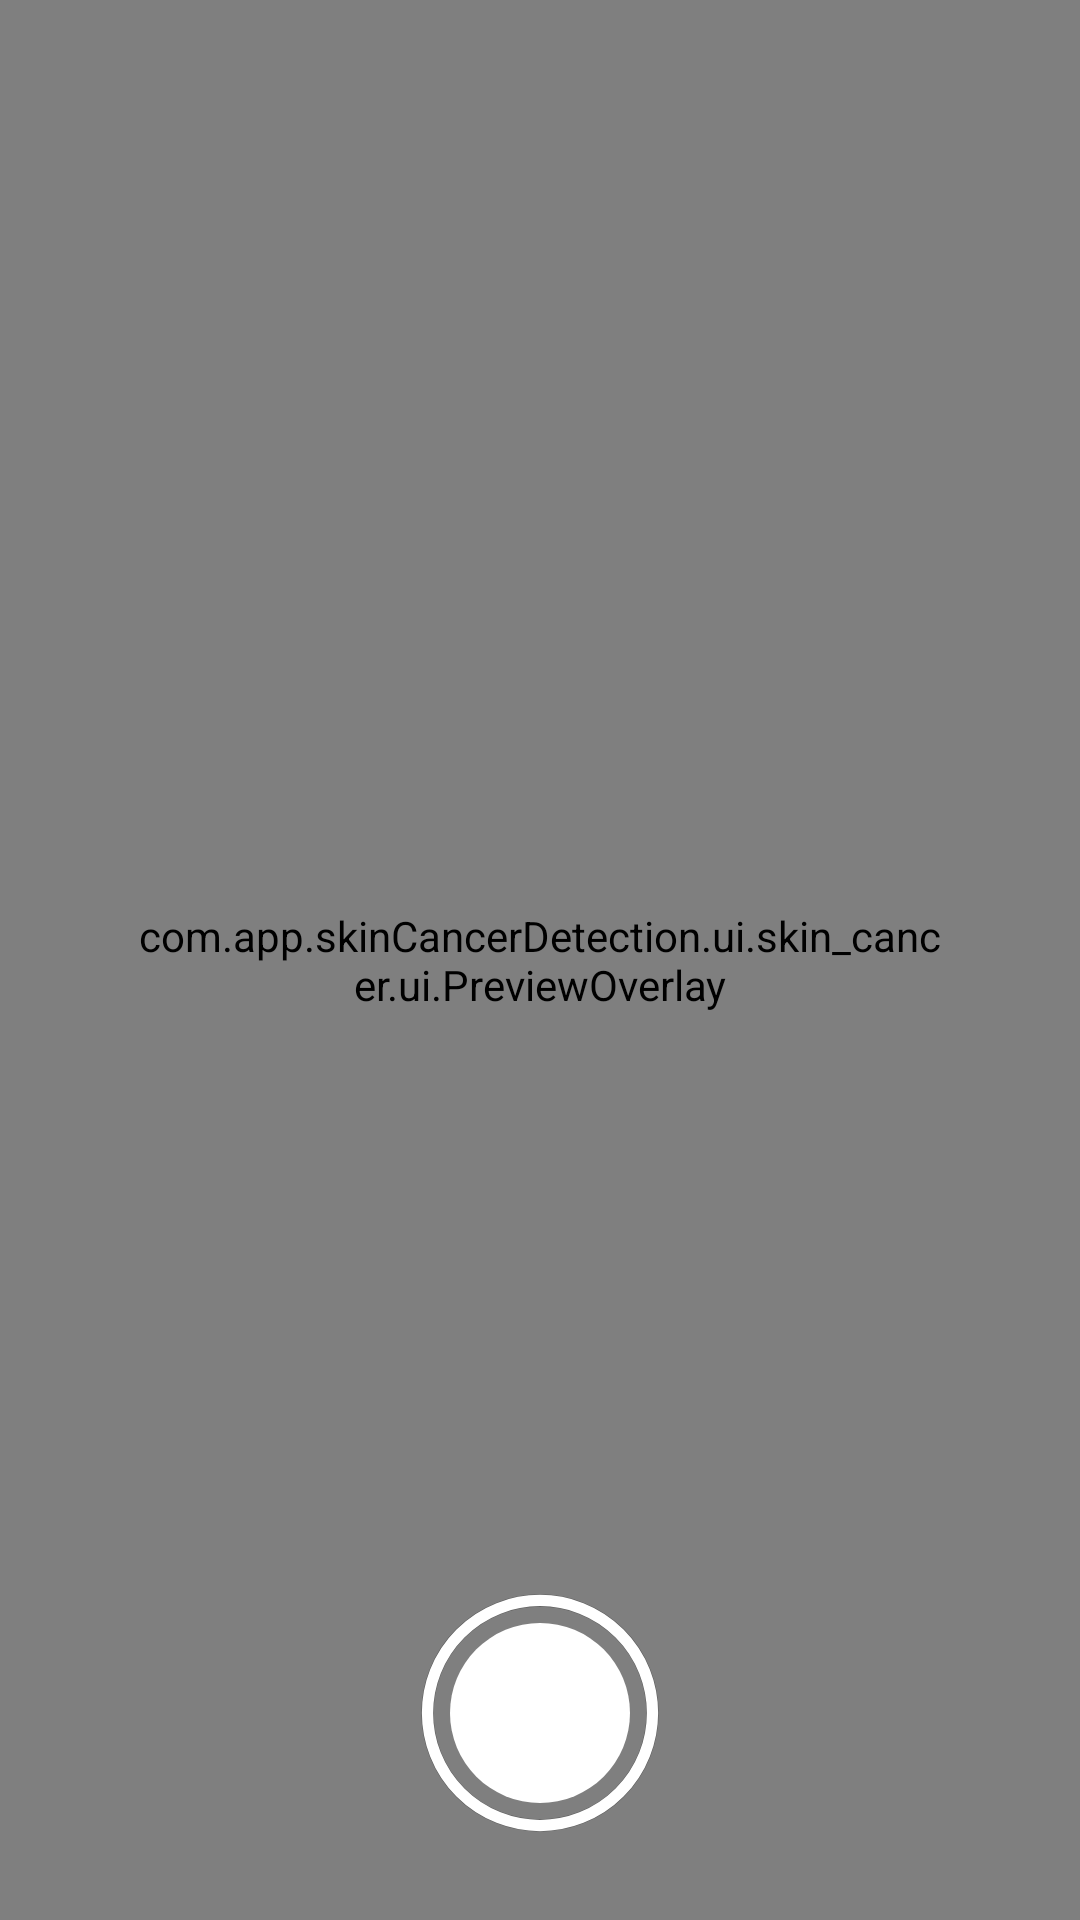

Screen size 1080px×1920px. Icon name, then its box in pixels as bbox=[x1, y1, x2, y2]:
circle camera: bbox=[422, 1595, 658, 1831]
